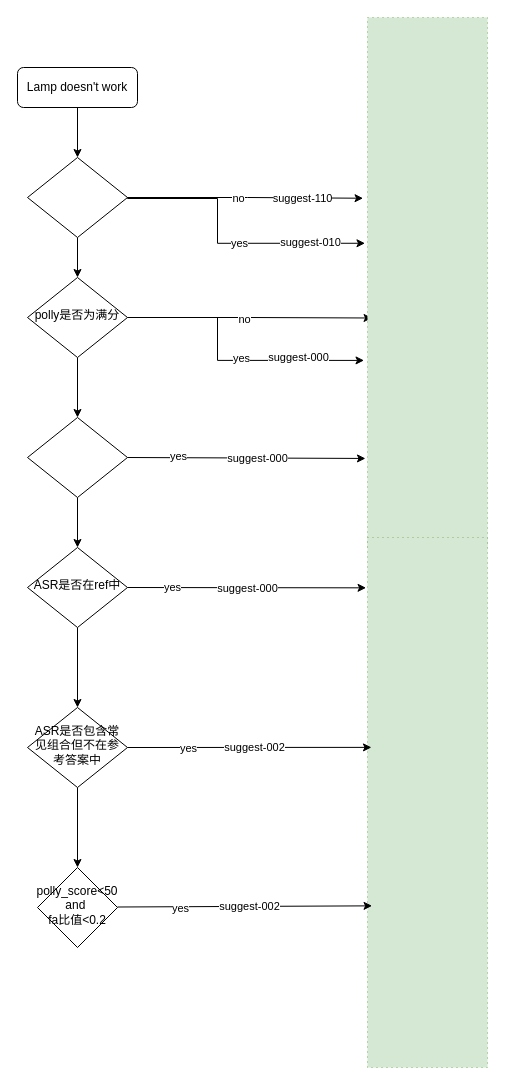
The diagram is 505 pixels wide and 1085 high, and some of its shapes have lost their labels. The box of each missing label's shape, as (x1, y1, x2, y2) in pixels:
ASR是否为空: (26, 416, 128, 498)
是否为开放题: (26, 156, 128, 238)
